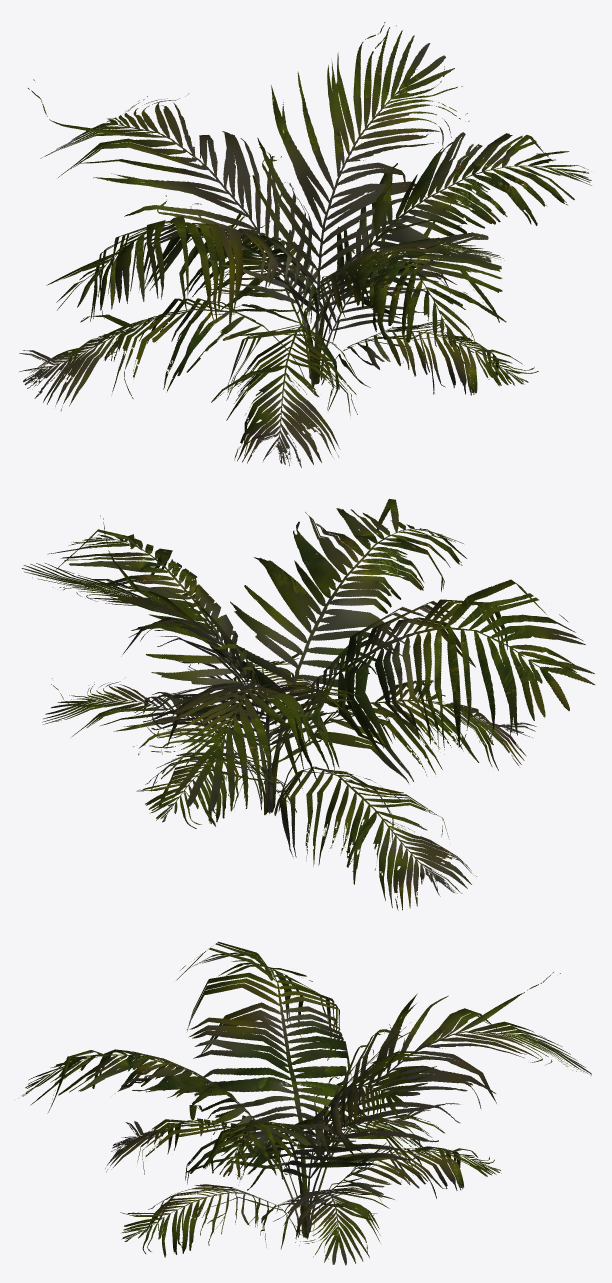
File: PalmFrond.obj
3 renders of one model, top to bottom at view 1: azimuth 30°, elevation 25°; view 2: azimuth 150°, elevation 25°; view 3: azimuth 270°, elevation 25°, orthographic. The views are drawn at different scales.
Visible parts, largest first — view 1: PalmFrond; view 2: PalmFrond; view 3: PalmFrond.
Part boxes in pixels (x1,y1,x2,y2): PalmFrond: (19,22,591,467); PalmFrond: (21,499,594,910); PalmFrond: (18,941,591,1265).
Bounding box in the file's own units: 3.27 × 1.8 × 3.49.
1 material, 1 textured.
